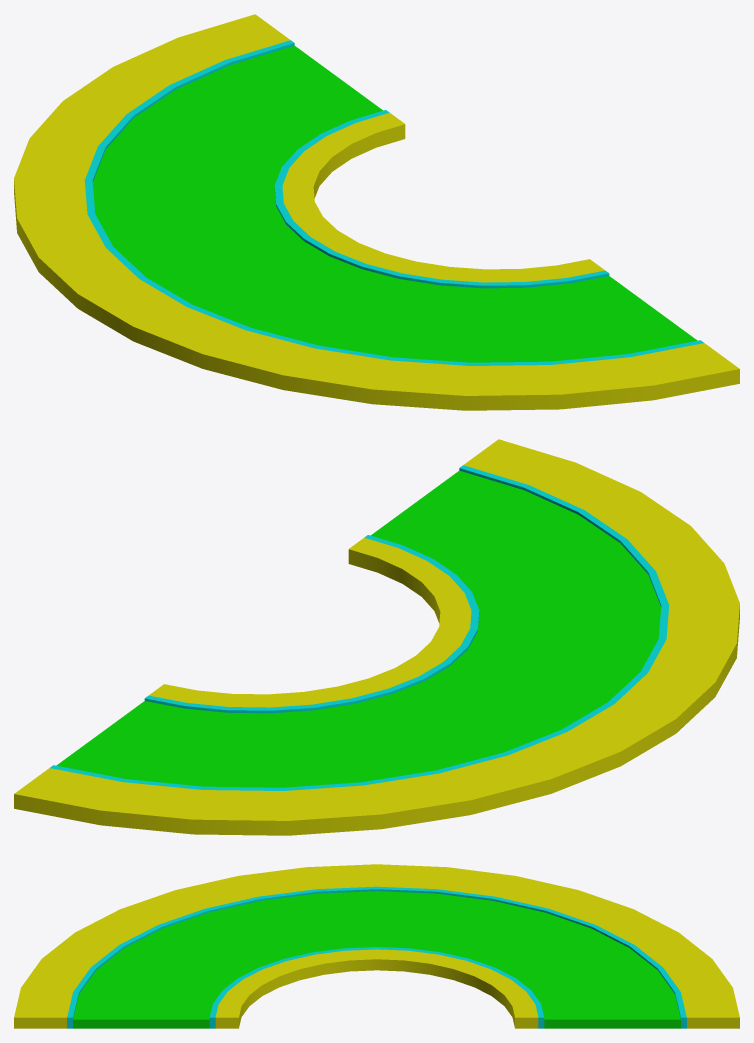
Rendered from Hairpin_road.fbx.
3 views of the same model, one above another, from view 1: azimuth 30°, elevation 25°; view 2: azimuth 150°, elevation 25°; view 3: azimuth 270°, elevation 25° (orthographic). The views are drawn at different scales.
Visible parts, largest first — view 1: Hairpin_road; view 2: Hairpin_road; view 3: Hairpin_road.
Part boxes in pixels (bbox=[...]): Hairpin_road: bbox=[14, 14, 739, 410]; Hairpin_road: bbox=[14, 439, 739, 835]; Hairpin_road: bbox=[14, 864, 739, 1028].
Bounding box in the file's own units: 895 × 30.14 × 1790.
